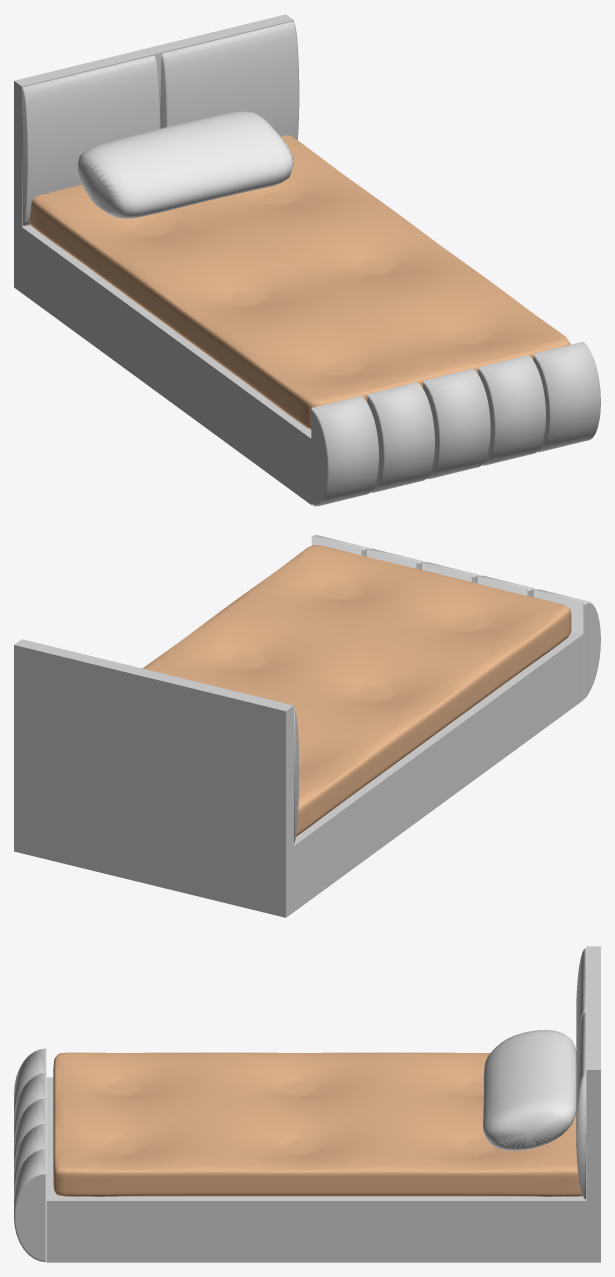
The model's file is bed_tier13.fbx.
3 views of the same model, one above another, from view 1: azimuth 30°, elevation 25°; view 2: azimuth 150°, elevation 25°; view 3: azimuth 270°, elevation 25° (orthographic). The views are drawn at different scales.
Parts seen in each view (by area): view 1: Cube, Cube.001, Cylinder.004; view 2: Cube, Cube.001; view 3: Cube.001, Cube, Cylinder.004.
Boxes of the visible parts, box(x1,y1,x2,y2) form: Cube: box(14, 14, 600, 506); Cube.001: box(29, 135, 570, 429); Cylinder.004: box(77, 111, 293, 218); Cube: box(14, 535, 600, 917); Cube.001: box(142, 545, 571, 836); Cube.001: box(53, 1052, 582, 1196); Cube: box(14, 946, 600, 1262); Cylinder.004: box(483, 1030, 576, 1150).
Size of the model in its own units: 190 by 137 by 379.
